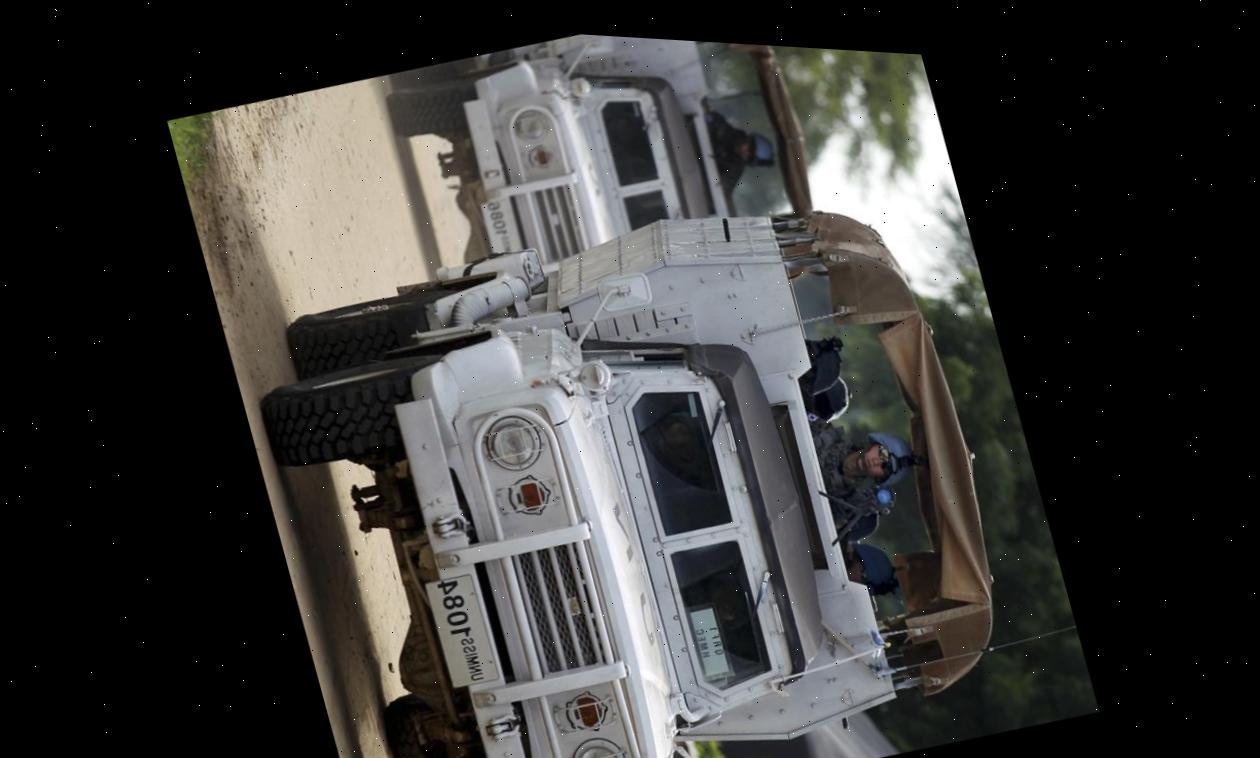armored_car: (228, 124, 1023, 758), (352, 21, 836, 333)
